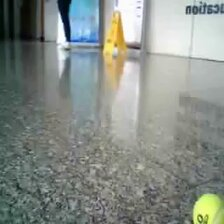tennis: (193, 193, 224, 224)
